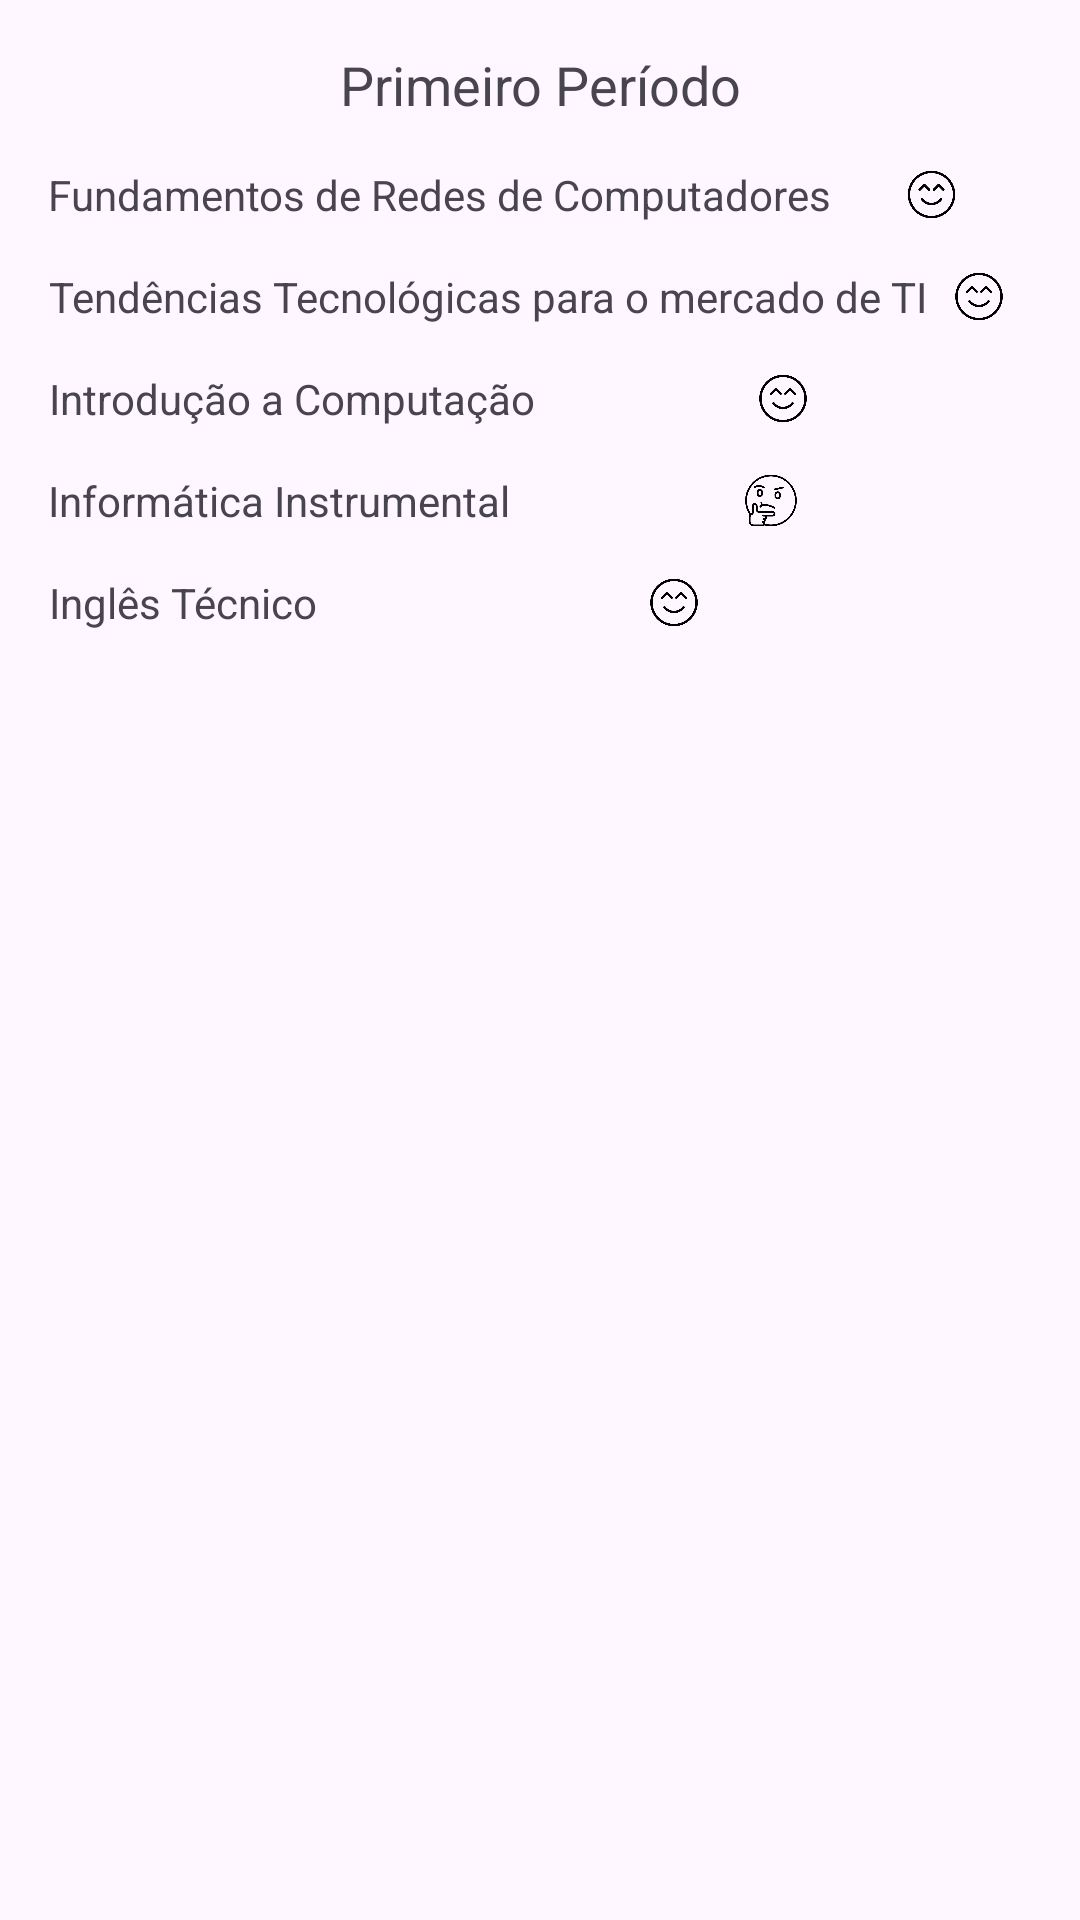

Screen size 1080px×1920px. Icon name, then its center in pixels as point (x, y):
smiling face with eyes: point (931, 194), point (979, 296), point (783, 398), point (674, 602)
thinking face: point (771, 500)
